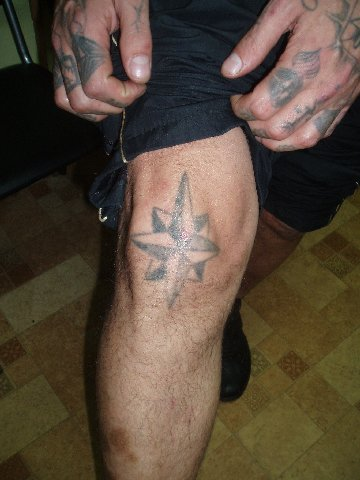tatu4_zvezda: (128, 175, 219, 313)
